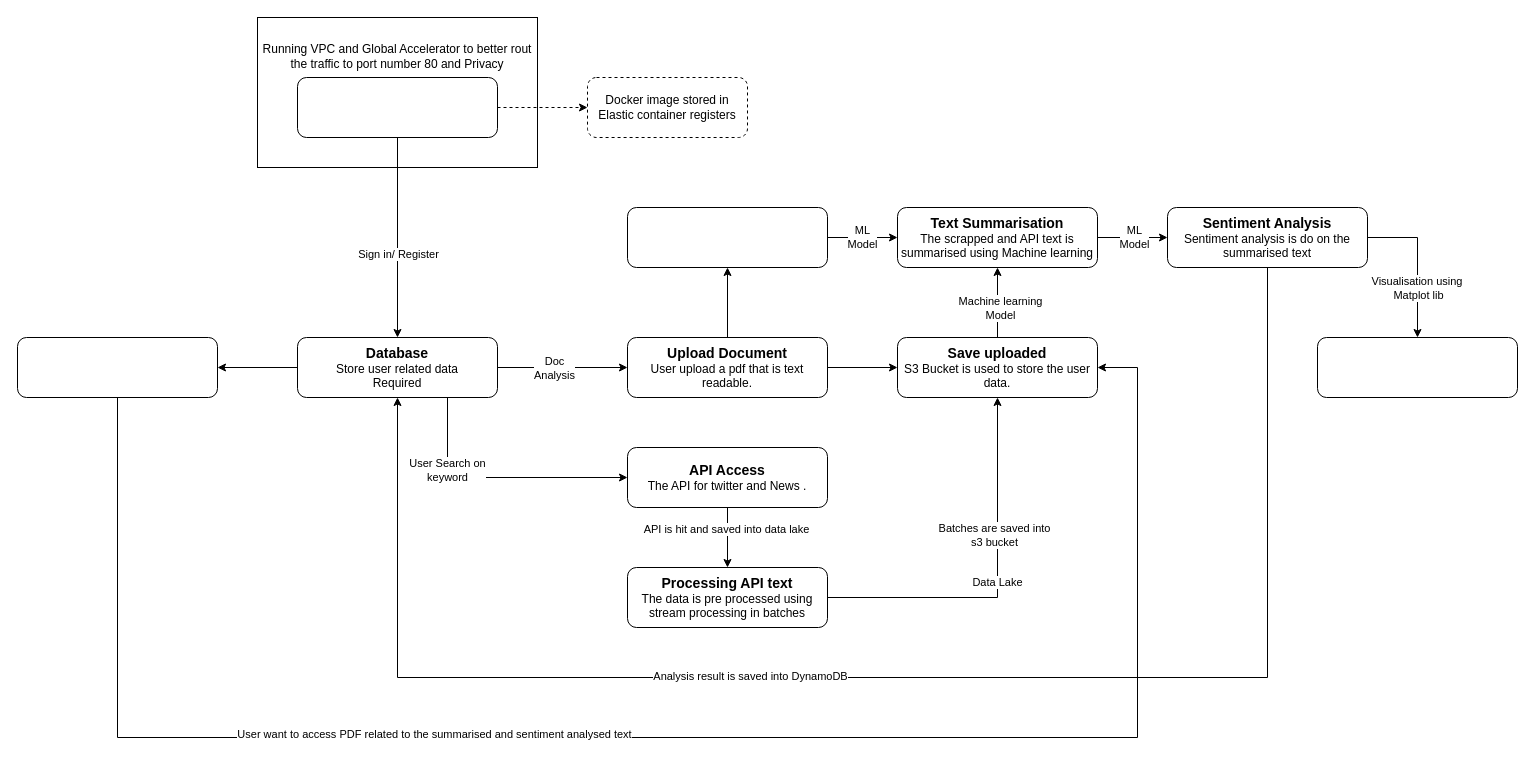
Some shapes in this 1535 by 763 pixel diagram are drawn without their labels. The shapes that lost their labels are listed below. From the top down, each one's centre as x and y in pixels, then its label:
At point (397, 107): "Web Application Accessed through web browser".
At point (727, 237): "Text scrapping Text is scrapped from the pdf document.".
At point (117, 367): "Fetch Old results Old result are saved for each user to display later".
At point (1417, 367): "Visualisation Pie chart is created for the sentiment analysis report".
